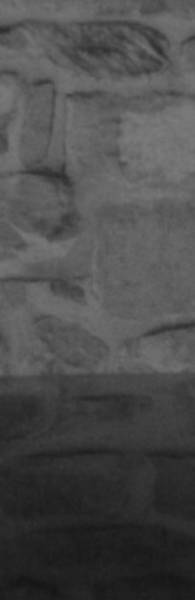water: (0, 376, 195, 600)
